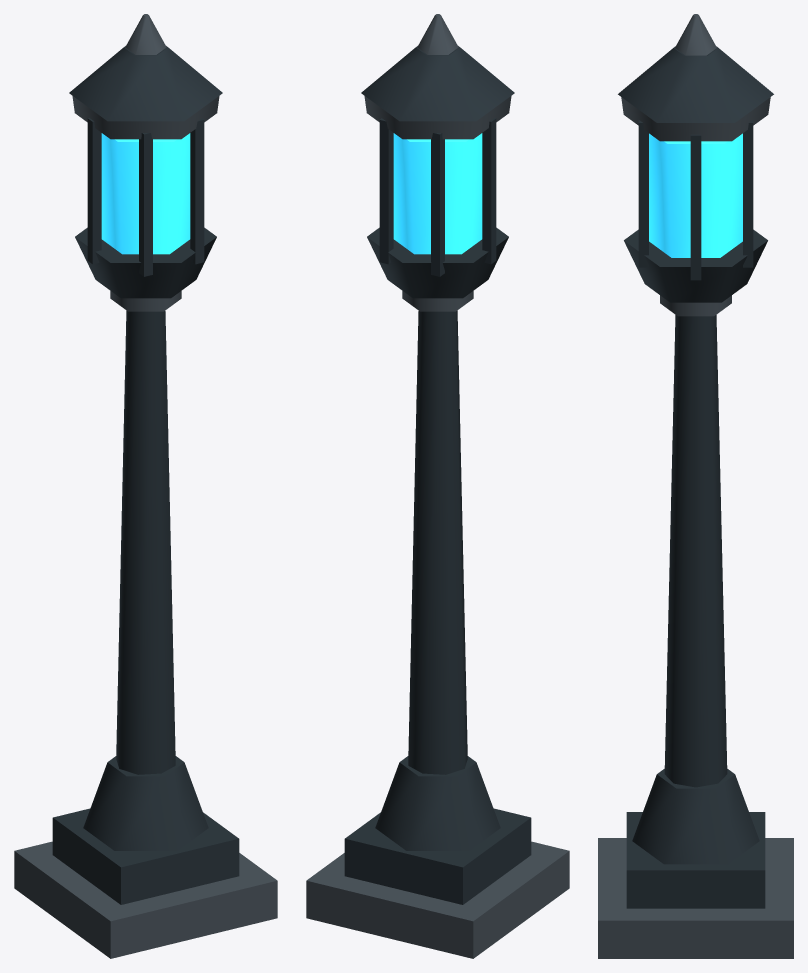
The model's file is Lantern_Cyan.glb.
3 views of the same model, side by side, from view 1: azimuth 30°, elevation 25°; view 2: azimuth 150°, elevation 25°; view 3: azimuth 270°, elevation 25° (orthographic).
Visible parts, largest first — view 1: Lantern_Cyan; view 2: Lantern_Cyan; view 3: Lantern_Cyan.
Part boxes in pixels (x1=…): Lantern_Cyan: x1=14, y1=14, x2=277, y2=958; Lantern_Cyan: x1=306, y1=14, x2=569, y2=958; Lantern_Cyan: x1=598, y1=14, x2=793, y2=958.
Bounding box in the file's own units: 0.6293 × 3.2 × 0.6293.
